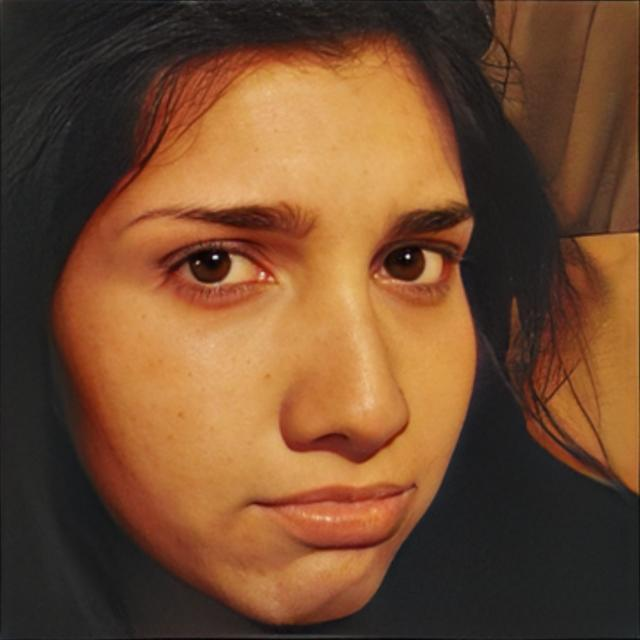sad: (46, 27, 478, 630)
